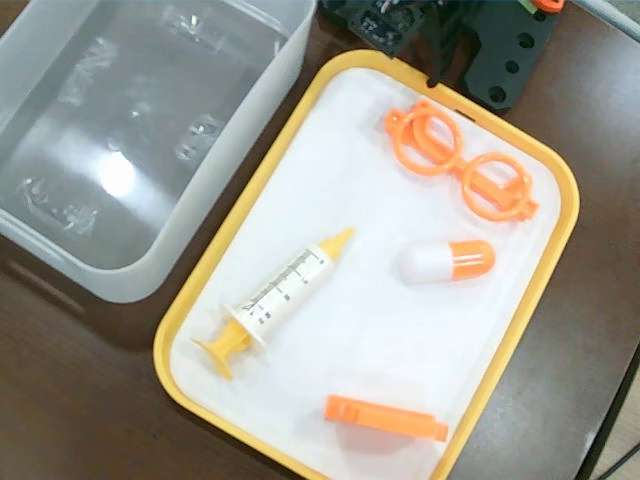pill: (398, 240, 496, 283)
syringe: (191, 225, 356, 380)
